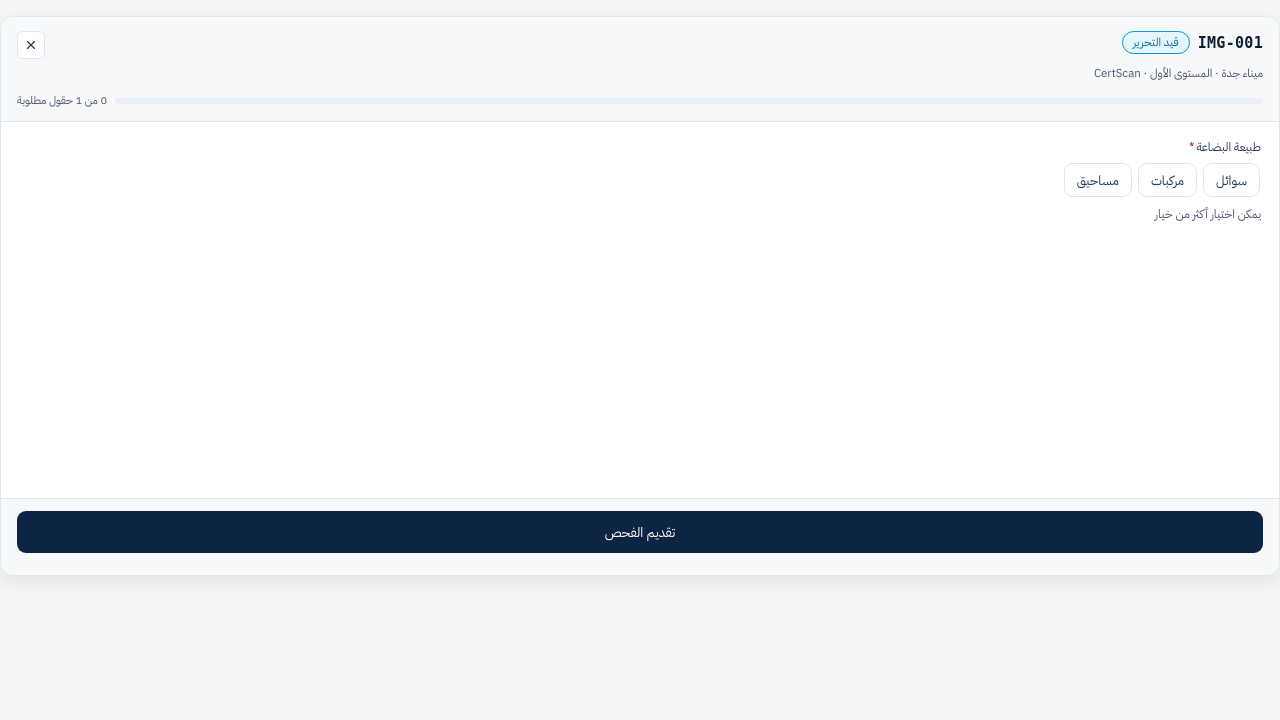
Test: InspectionPanel — multiselect fields › reveals a field conditioned on one option even when several are picked
Expected: the field labelled "تفاصيل المركبة" is not shown
Click the button "سوائل" at [1232, 180], box [1203,163,1260,197]
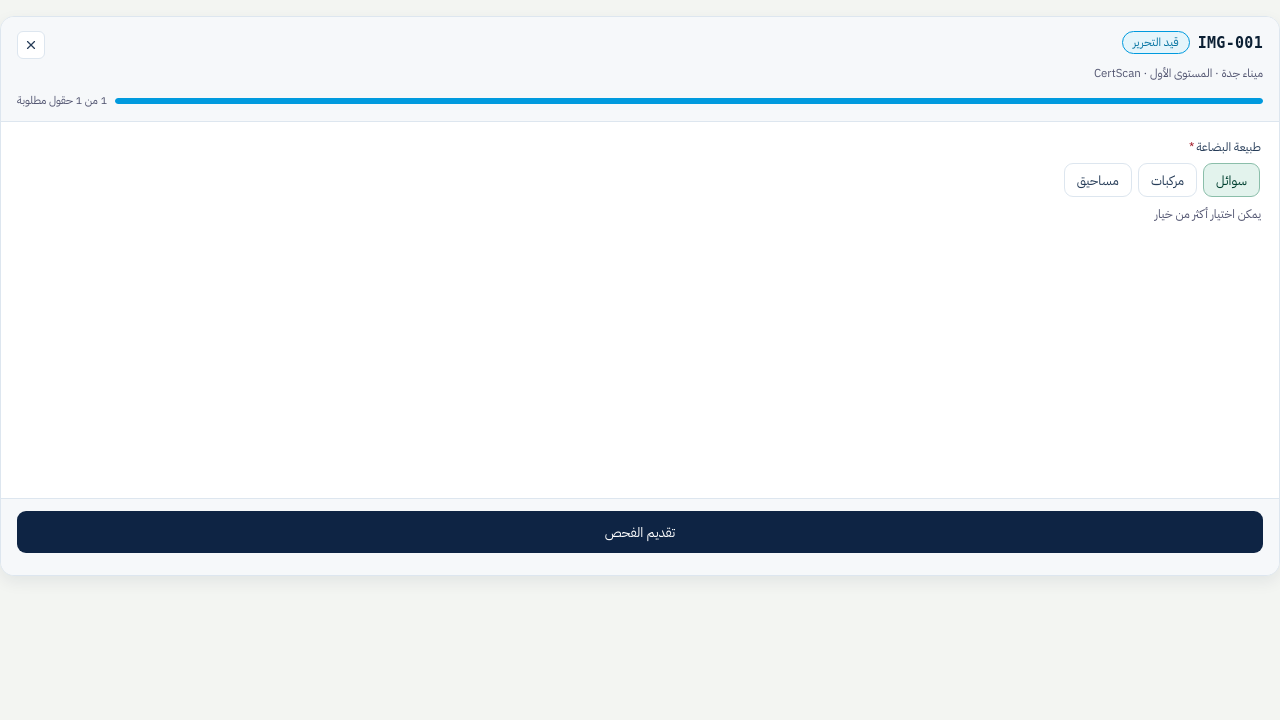
Expected: the field labelled "تفاصيل المركبة" is not shown
Click the button "مركبات" at [1168, 180], box [1138,163,1197,197]
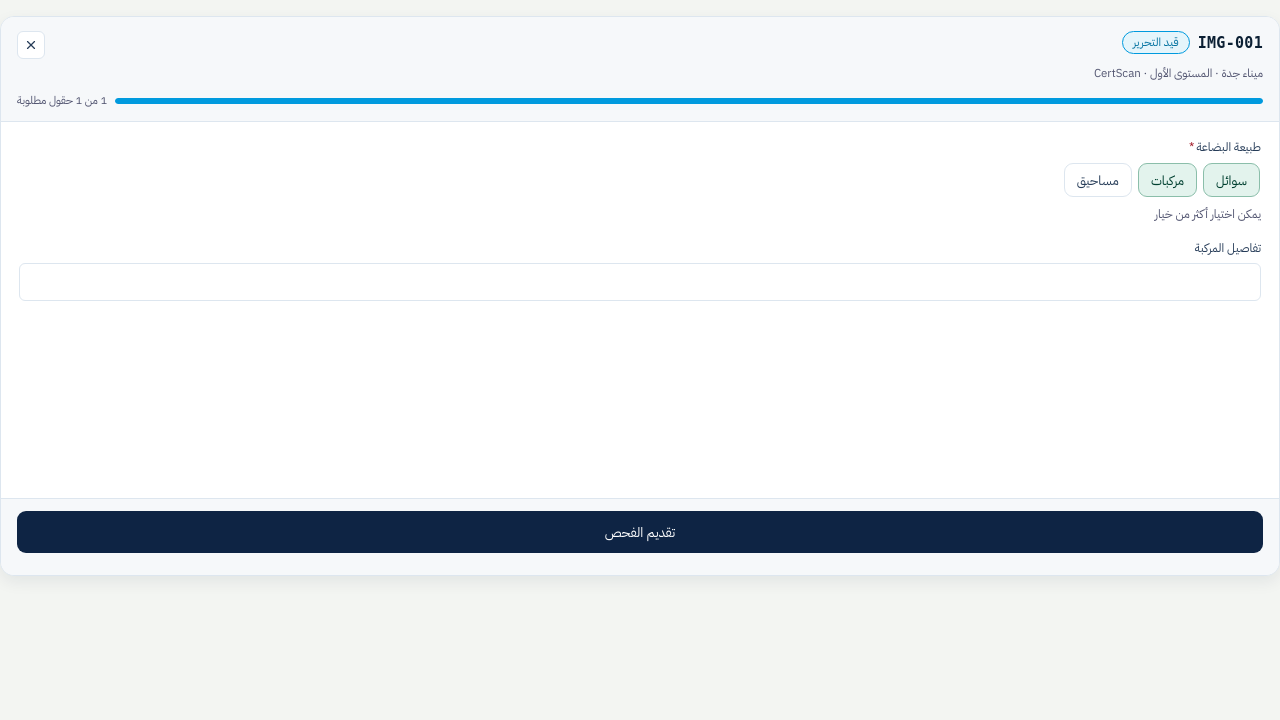
Expected: the field labelled "تفاصيل المركبة" is shown, [19,263,1261,301]
